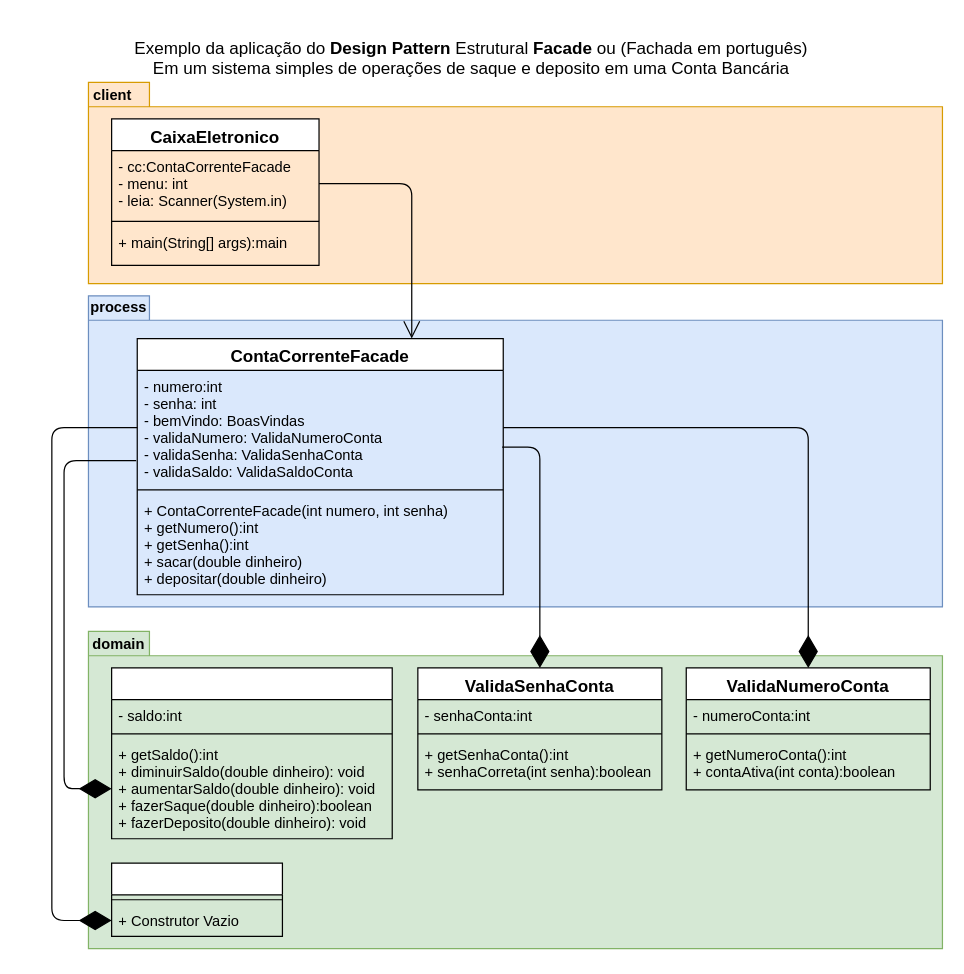
Image size: 964x974. Some labels were removed from this diagram. The box of each missing label's shape, as (x1, y1, x2, y2) in pixels:
BoasVidas: (110, 862, 282, 936)
ValidaSaldoConta: (110, 667, 392, 839)
